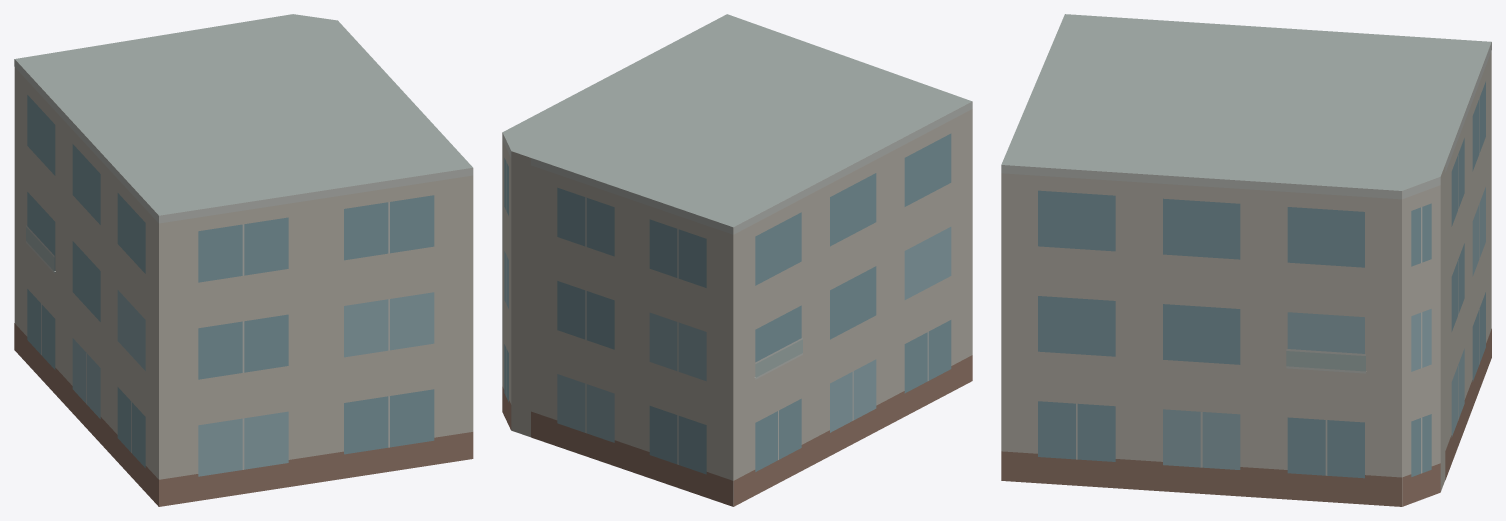
Rendered from survey-upis-32706172.glb.
3 renders of one model, left to right at view 1: azimuth 30°, elevation 25°; view 2: azimuth 150°, elevation 25°; view 3: azimuth 270°, elevation 25°, orthographic. The views are drawn at different scales.
Visible parts, largest first — view 1: survey-upis-32706172.tmp; view 2: survey-upis-32706172.tmp; view 3: survey-upis-32706172.tmp.
Part boxes in pixels (x1,y1,x2,y2): survey-upis-32706172.tmp: (14, 14, 473, 506); survey-upis-32706172.tmp: (502, 14, 972, 506); survey-upis-32706172.tmp: (1001, 14, 1491, 506).
Bounding box in the file's own units: 11.01 × 9.15 × 12.89.
